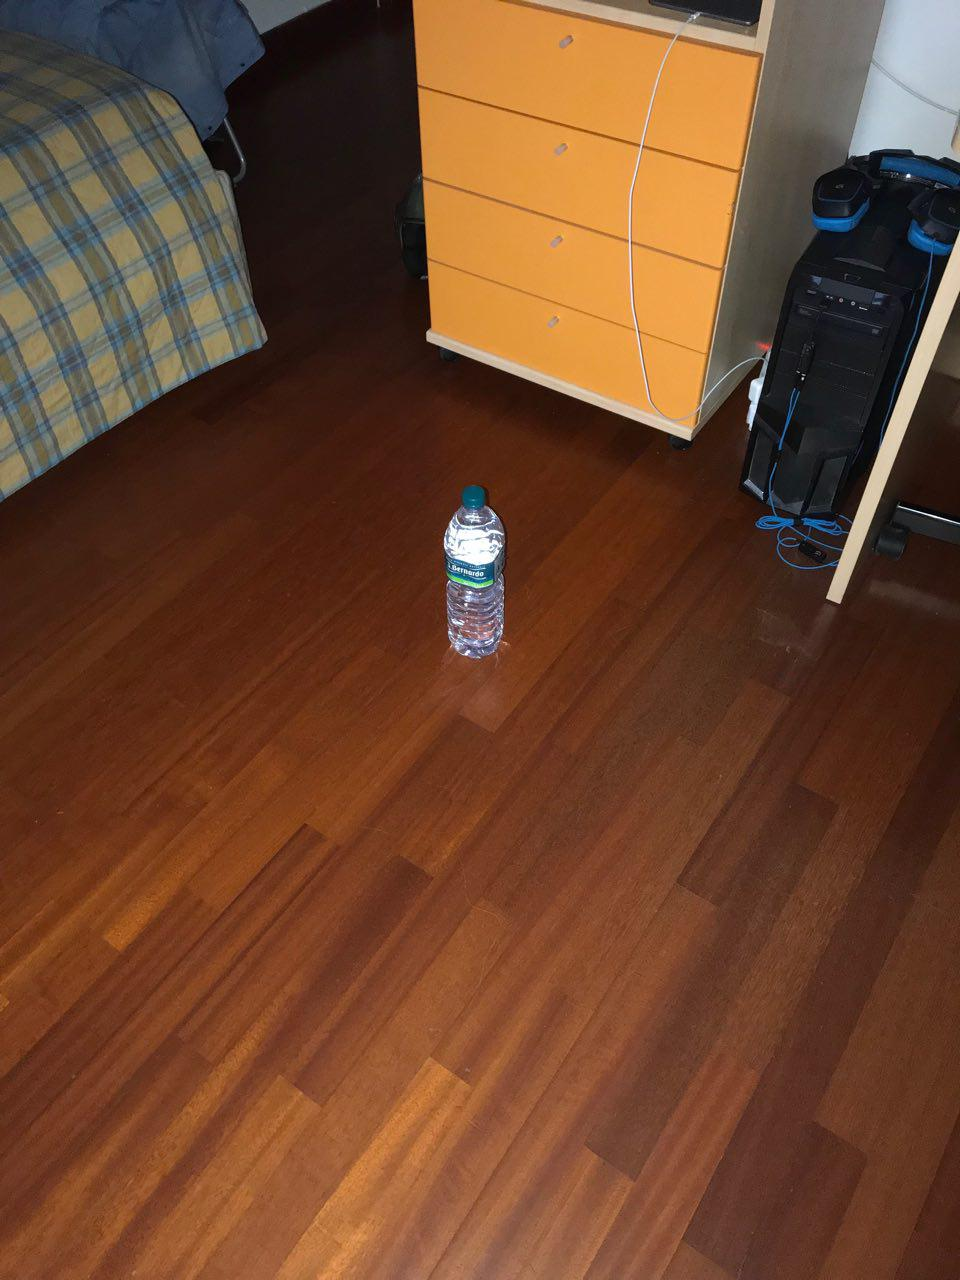san_bernardo: (442, 484, 507, 660)
